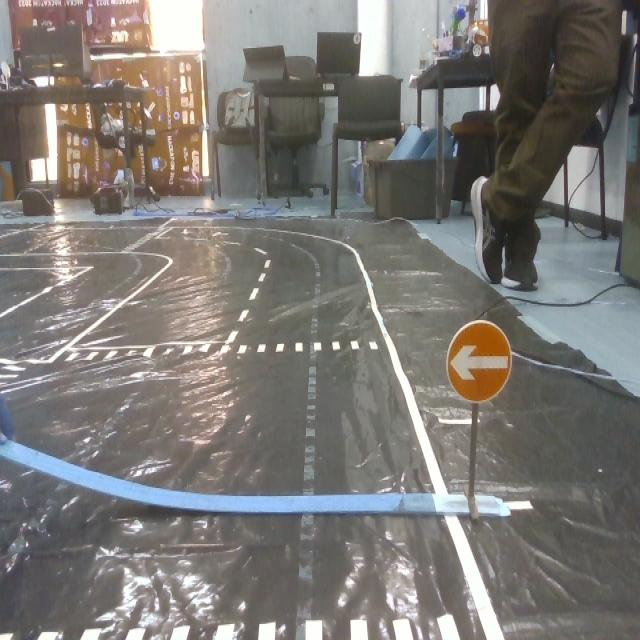forward: (444, 315, 513, 402)
